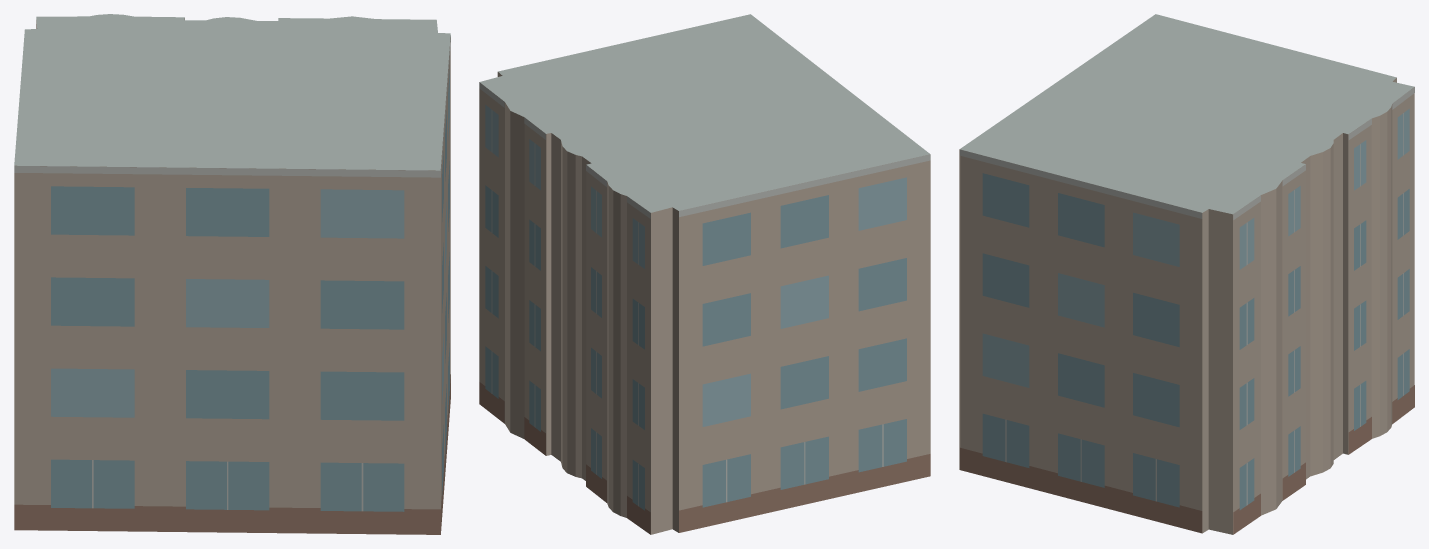
Rendered from survey-upis-32781704.glb.
3 renders of one model, left to right at view 1: azimuth 30°, elevation 25°; view 2: azimuth 150°, elevation 25°; view 3: azimuth 270°, elevation 25°, orthographic. The views are drawn at different scales.
Parts seen in each view (by area): view 1: survey-upis-32781704.tmp; view 2: survey-upis-32781704.tmp; view 3: survey-upis-32781704.tmp.
Part boxes in pixels (x1,y1,x2,y2): survey-upis-32781704.tmp: [14, 14, 450, 534]; survey-upis-32781704.tmp: [479, 14, 930, 534]; survey-upis-32781704.tmp: [959, 14, 1414, 534].
Bounding box in the file's own units: 16.82 × 12.55 × 16.17.
